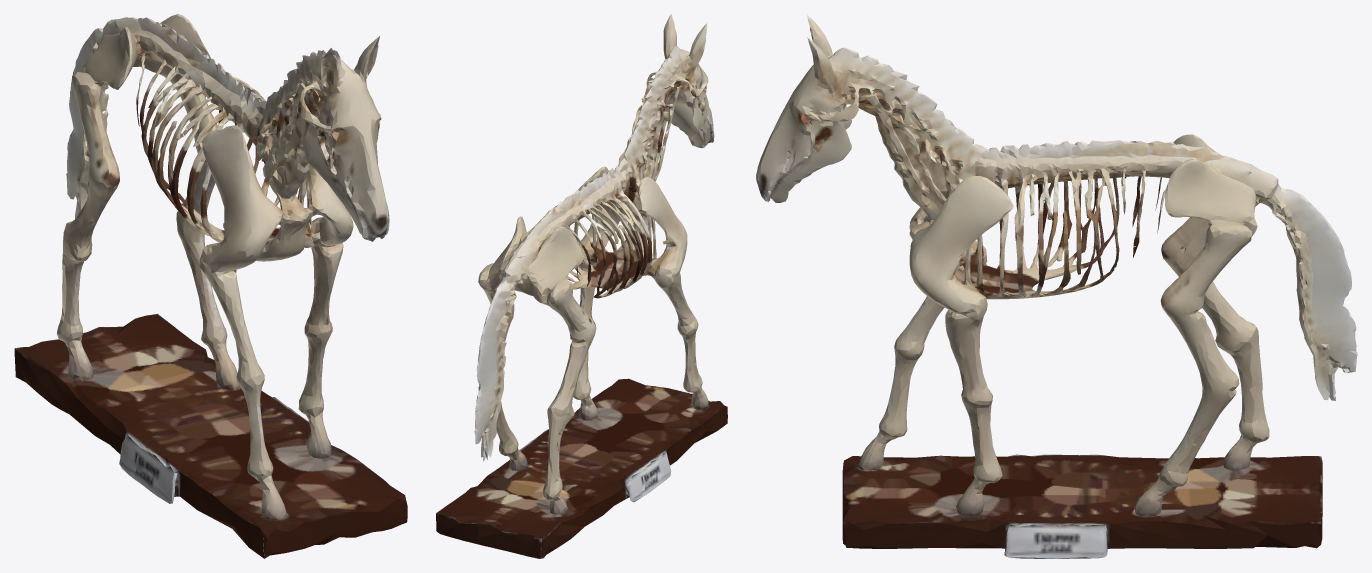
Rendered from horse_skeleton.glb.
3 views of the same model, side by side, from view 1: azimuth 30°, elevation 25°; view 2: azimuth 150°, elevation 25°; view 3: azimuth 270°, elevation 25° (orthographic). The views are drawn at different scales.
Parts seen in each view (by area): view 1: model; view 2: model; view 3: model.
Part boxes in pixels (x1,y1,x2,y2): model: (14, 14, 407, 558); model: (436, 14, 727, 558); model: (756, 14, 1357, 558).
Bounding box in the file's own units: 0.5687 × 1.73 × 1.9.
Materials: 1 (1 with a texture image).
